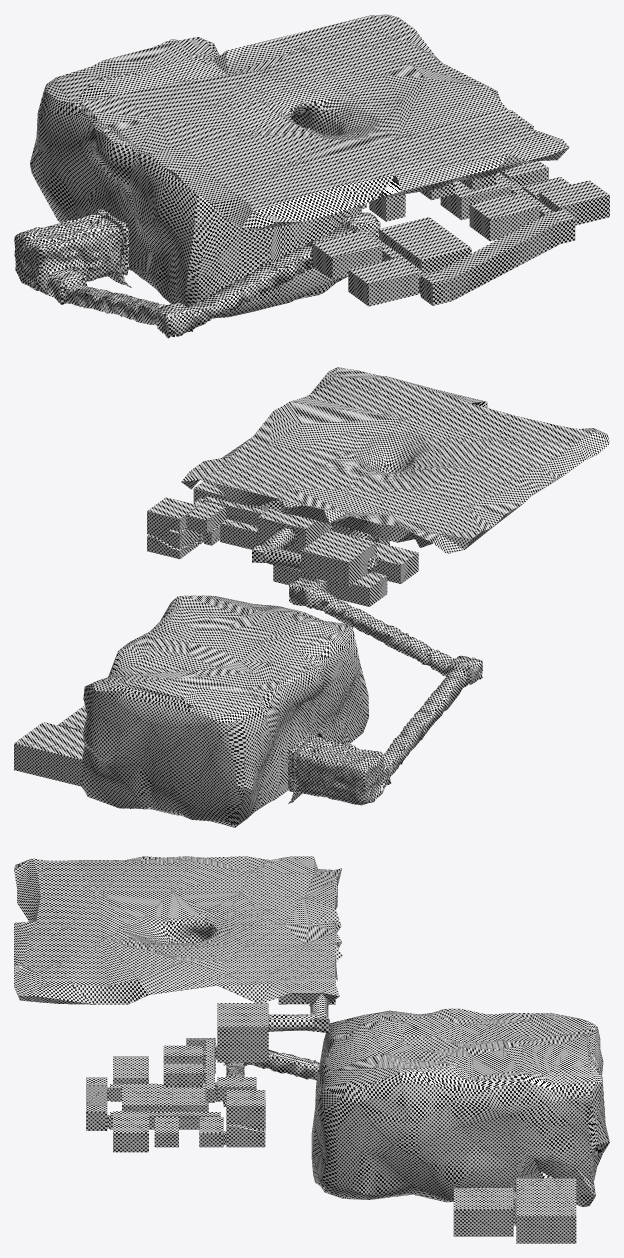
File: level_mesh_parts.gltf
3 views of the same model, one above another, from view 1: azimuth 30°, elevation 25°; view 2: azimuth 150°, elevation 25°; view 3: azimuth 270°, elevation 25° (orthographic). The views are drawn at different scales.
Visible parts, largest first — view 1: SurfaceMesh, Sanctuary_MainChambersMesh2, StairsNurseryAndSanctuaryMesh2, Sanctuary_EntranceMesh2, StairsFloor2andNurseryMesh2, Nursery_BedroomMesh2, Nursery_PlayroomMesh2, Nursery_DiningRoomMesh2, Floor2_LivingAreaExerciseMesh2, Floor2_BathroomMesh, Floor2_LivingAreaRadioMesh2, Floor2_BedroomDustinMesh (+3 smaller); view 2: Sanctuary_MainChambersMesh2, SurfaceMesh, StairsNurseryAndSanctuaryMesh2, Sanctuary_EntranceMesh2, Sanctuary_BedroomMesh2, Floor1_EntranceMesh, StairsFloor1and2Mesh2, Floor1_KitchenMesh, Floor1_VentMesh, Nursery_DiningRoomMesh2, Nursery_PlayroomMesh2, Floor1_BedroomJakobMesh (+2 smaller); view 3: Sanctuary_MainChambersMesh2, SurfaceMesh, Sanctuary_BedroomMesh2, Floor1_KitchenMesh, Sanctuary_BathroomMesh2, StairsFloor1and2Mesh2, Floor2_BathroomMesh, StairsNurseryAndSanctuaryMesh2, Floor1_VentMesh, StairsFloor2andNurseryMesh2, Floor2_LivingAreaExerciseMesh2, Floor1_BedroomMatthewMesh (+8 smaller).
Boxes of the visible parts, left/top/right/bottom form: SurfaceMesh: left=77, top=14, right=569, bottom=230; Sanctuary_MainChambersMesh2: left=30, top=37, right=361, bottom=317; StairsNurseryAndSanctuaryMesh2: left=47, top=212, right=380, bottom=338; Sanctuary_EntranceMesh2: left=14, top=209, right=128, bottom=294; StairsFloor2andNurseryMesh2: left=420, top=210, right=575, bottom=305; Nursery_BedroomMesh2: left=379, top=217, right=471, bottom=273; Nursery_PlayroomMesh2: left=348, top=257, right=418, bottom=306; Nursery_DiningRoomMesh2: left=311, top=231, right=382, bottom=279; Floor2_LivingAreaExerciseMesh2: left=469, top=192, right=540, bottom=241; Floor2_BathroomMesh: left=539, top=180, right=609, bottom=225; Floor2_LivingAreaRadioMesh2: left=440, top=175, right=511, bottom=220; Floor2_BedroomDustinMesh: left=498, top=161, right=548, bottom=188; Sanctuary_MainChambersMesh2: left=80, top=595, right=368, bottom=827; SurfaceMesh: left=181, top=367, right=609, bottom=553; StairsNurseryAndSanctuaryMesh2: left=289, top=577, right=482, bottom=785; Sanctuary_EntranceMesh2: left=288, top=733, right=387, bottom=805; Sanctuary_BedroomMesh2: left=14, top=722, right=84, bottom=786; Floor1_EntranceMesh: left=301, top=530, right=377, bottom=586; StairsFloor1and2Mesh2: left=147, top=497, right=198, bottom=559; Floor1_KitchenMesh: left=257, top=508, right=330, bottom=553; Floor1_VentMesh: left=252, top=525, right=300, bottom=571; Nursery_DiningRoomMesh2: left=326, top=571, right=387, bottom=606; Nursery_PlayroomMesh2: left=372, top=542, right=418, bottom=583; Floor1_BedroomJakobMesh: left=186, top=501, right=226, bottom=533; Sanctuary_MainChambersMesh2: left=311, top=1008, right=609, bottom=1206; SurfaceMesh: left=14, top=856, right=342, bottom=1004; Sanctuary_BedroomMesh2: left=515, top=1177, right=576, bottom=1243; Floor1_KitchenMesh: left=216, top=1003, right=269, bottom=1062; Sanctuary_BathroomMesh2: left=453, top=1188, right=514, bottom=1236; StairsFloor1and2Mesh2: left=225, top=1090, right=265, bottom=1147; Floor2_BathroomMesh: left=113, top=1111, right=148, bottom=1152; StairsNurseryAndSanctuaryMesh2: left=223, top=1050, right=319, bottom=1106; Floor1_VentMesh: left=270, top=993, right=329, bottom=1033; StairsFloor2andNurseryMesh2: left=86, top=1077, right=108, bottom=1130; Floor2_LivingAreaExerciseMesh2: left=122, top=1083, right=157, bottom=1111; Floor1_BedroomMatthewMesh: left=163, top=1063, right=204, bottom=1087.
Bounding box in the file's own units: 142 × 91.62 × 200.
Materials: 156 (5 with a texture image).
